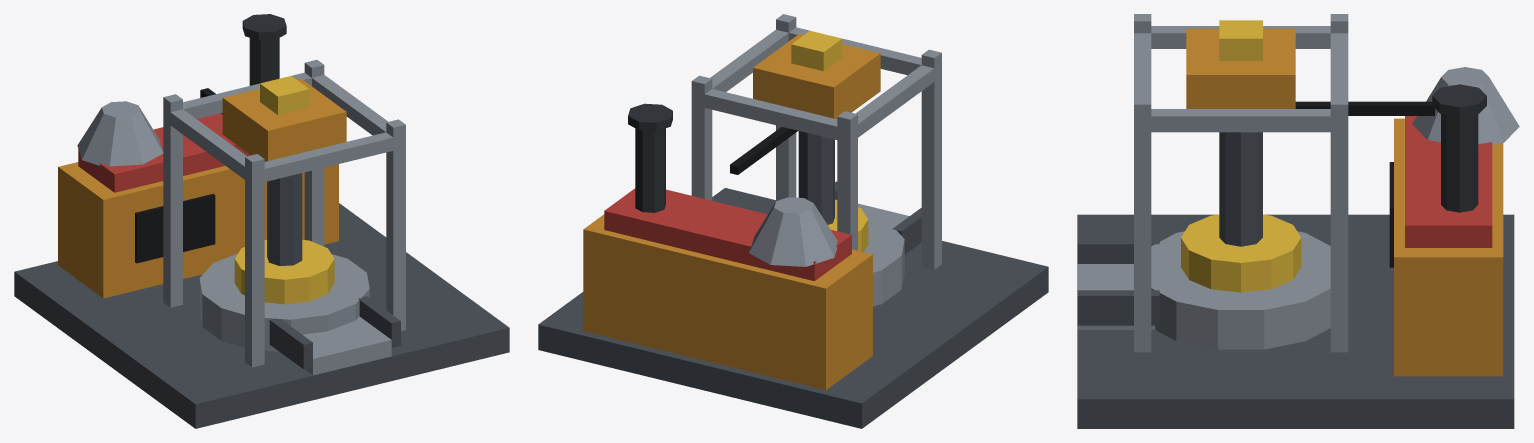
The model's file is foreuse_t1.glb.
The picture shows the model from 3 angles, left to right: view 1: azimuth 30°, elevation 25°; view 2: azimuth 150°, elevation 25°; view 3: azimuth 270°, elevation 25°; orthographic projection. The views are drawn at different scales.
Parts seen in each view (by area): view 1: socle.001, moteur.001, collier.001, tete.001, montant_0.001, tremie.001, montant_2.001, montant_1.001, table.001, capot.001, grille.001, goulotte.001 (+11 smaller); view 2: moteur.001, socle.001, capot.001, tete.001, tremie.001, montant_0.001, traverse_arriere.001, tige.001, montant_2.001, collier.001, cheminee.001, montant_3.001 (+10 smaller); view 3: socle.001, moteur.001, collier.001, tete.001, capot.001, table.001, tige.001, montant_3.001, montant_1.001, traverse_droite.001, cheminee.001, tremie.001 (+10 smaller).
Part boxes in pixels (<box>): socle.001: <box>14,203,509,428</box>; moteur.001: <box>58,162,338,298</box>; collier.001: <box>199,253,369,351</box>; tete.001: <box>222,78,346,161</box>; montant_0.001: <box>245,154,264,367</box>; tremie.001: <box>77,101,163,166</box>; montant_2.001: <box>163,94,182,307</box>; montant_1.001: <box>386,119,405,330</box>; table.001: <box>234,239,334,304</box>; capot.001: <box>78,113,250,192</box>; grille.001: <box>135,193,215,263</box>; goulotte.001: <box>303,316,391,375</box>; moteur.001: <box>583,214,872,389</box>; socle.001: <box>538,188,1048,428</box>; capot.001: <box>604,188,851,281</box>; tete.001: <box>753,33,880,119</box>; tremie.001: <box>749,197,837,266</box>; montant_0.001: <box>921,49,941,269</box>; traverse_arriere.001: <box>700,89,857,143</box>; tige.001: <box>798,131,834,224</box>; montant_2.001: <box>837,111,857,250</box>; collier.001: <box>864,214,904,306</box>; cheminee.001: <box>635,128,665,212</box>; montant_3.001: <box>691,75,712,200</box>; socle.001: <box>1077,214,1514,428</box>; moteur.001: <box>1394,118,1503,376</box>; collier.001: <box>1151,231,1330,349</box>; tete.001: <box>1186,28,1295,108</box>; capot.001: <box>1405,116,1492,247</box>; table.001: <box>1181,214,1301,292</box>; tige.001: <box>1219,132,1262,246</box>; montant_3.001: <box>1330,97,1348,352</box>; montant_1.001: <box>1134,97,1151,352</box>; traverse_droite.001: <box>1134,109,1344,132</box>; cheminee.001: <box>1441,114,1478,212</box>; tremie.001: <box>1412,67,1519,144</box>.
Size of the model in its own units: 2 by 1.55 by 2.02.
